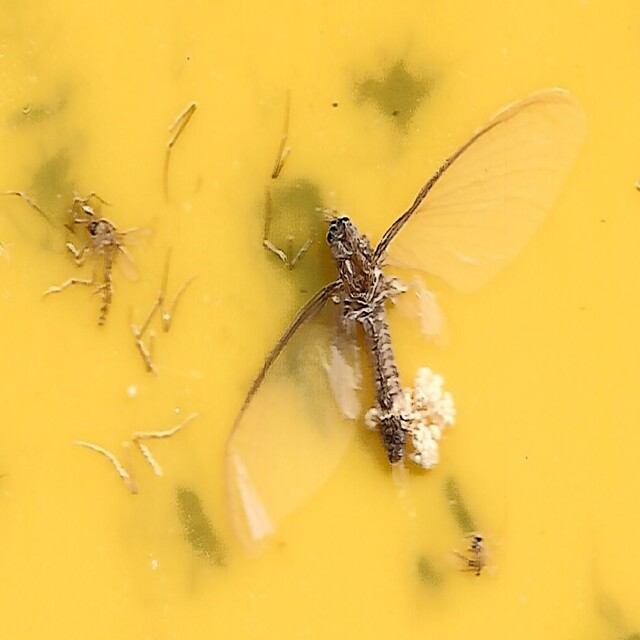Ephemeroptera: (220, 94, 575, 546)
Nematocera: (65, 189, 150, 334)
